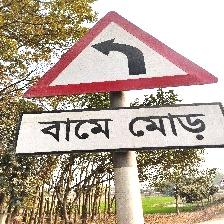Left-Turn: (19, 8, 223, 154)
